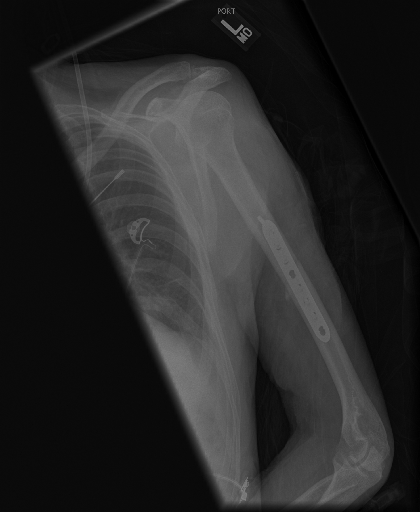implant: (253, 210, 333, 343), (120, 211, 161, 251)
